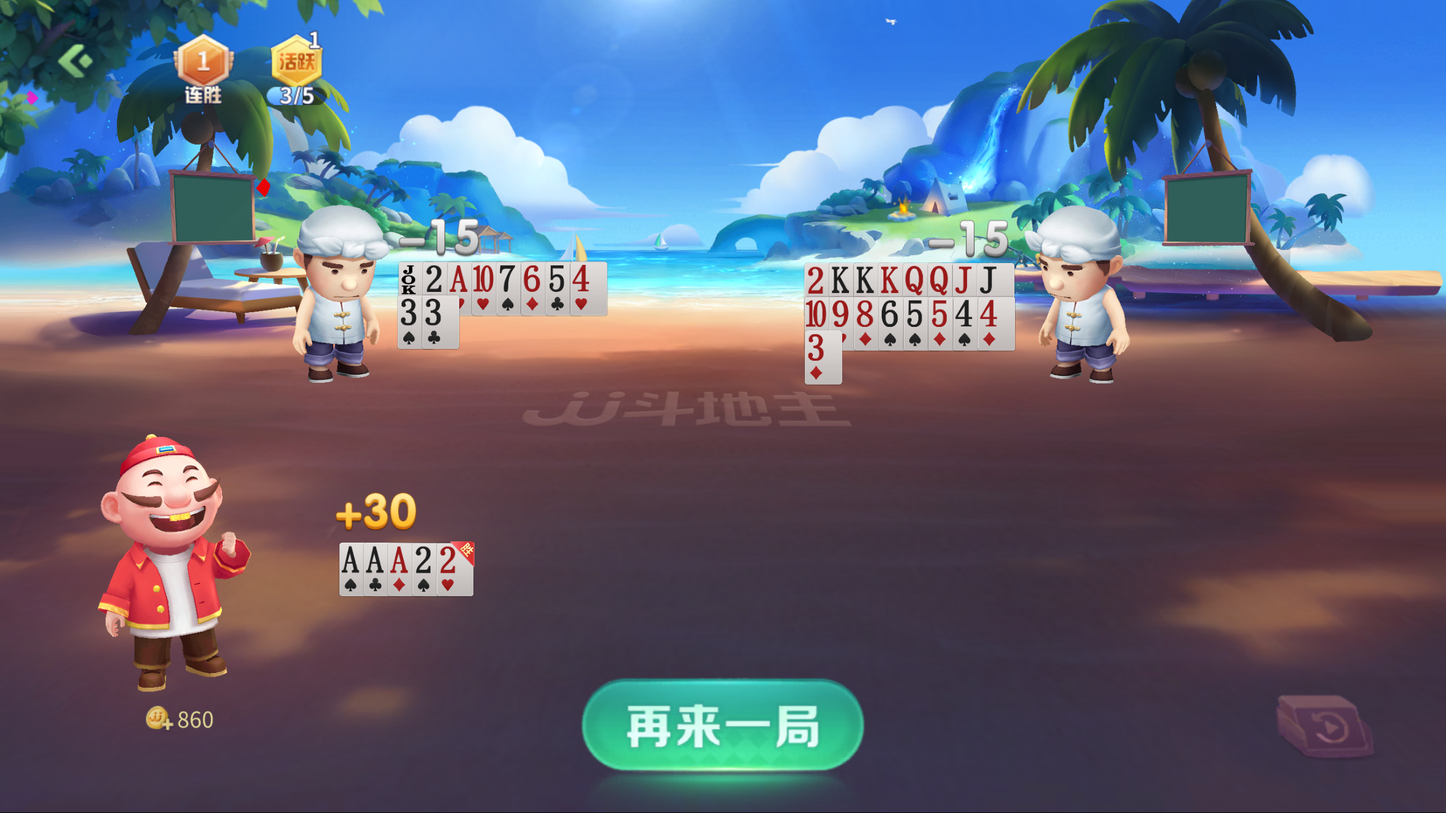A: (338, 543, 362, 576), (387, 544, 410, 576), (363, 544, 385, 576), (447, 262, 468, 295)
J: (952, 262, 976, 298), (978, 263, 1003, 296)
K: (876, 263, 901, 299), (829, 261, 850, 299), (853, 264, 875, 299)
Q: (927, 264, 950, 302), (902, 264, 925, 300)
eight: (854, 299, 876, 330)
five: (901, 299, 928, 329), (928, 297, 950, 330), (547, 264, 567, 294)
four: (978, 297, 1003, 329), (569, 263, 595, 293), (952, 297, 974, 329)
joker: (400, 264, 419, 298)
nine: (829, 294, 853, 330)
seven: (496, 262, 517, 294)
six: (521, 262, 544, 295), (880, 299, 902, 330)
ten: (803, 297, 829, 332), (470, 262, 495, 294)
three: (421, 297, 447, 329), (804, 332, 828, 365), (400, 298, 421, 328)
two: (807, 259, 832, 300), (422, 262, 446, 299), (437, 544, 463, 577), (411, 544, 434, 577)
